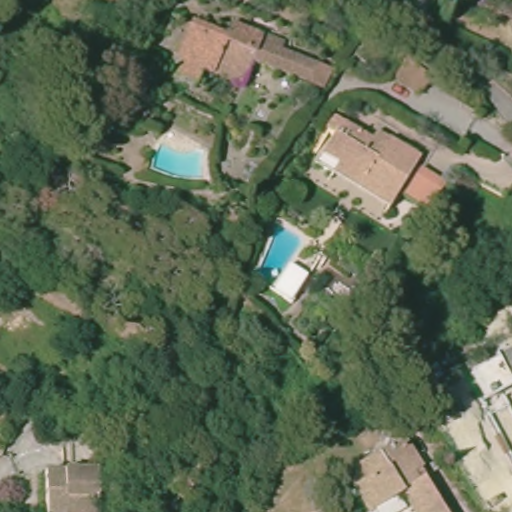pool: (253, 216, 307, 290), (146, 137, 216, 185)
